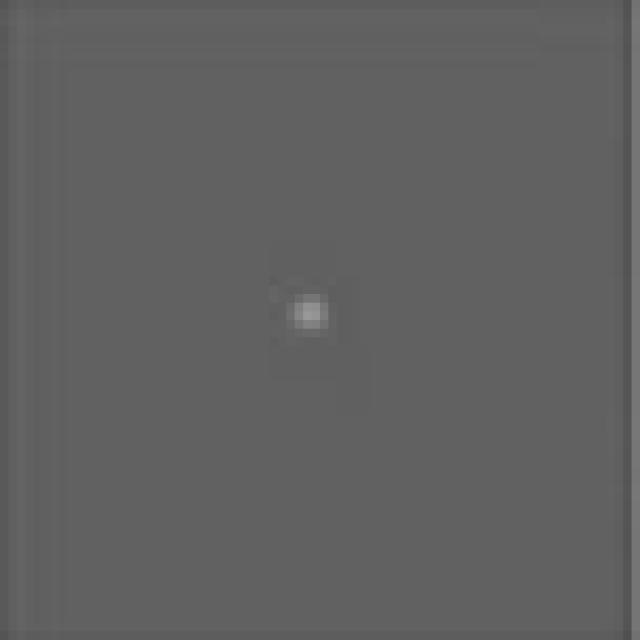Defect1: (265, 237, 365, 376)
